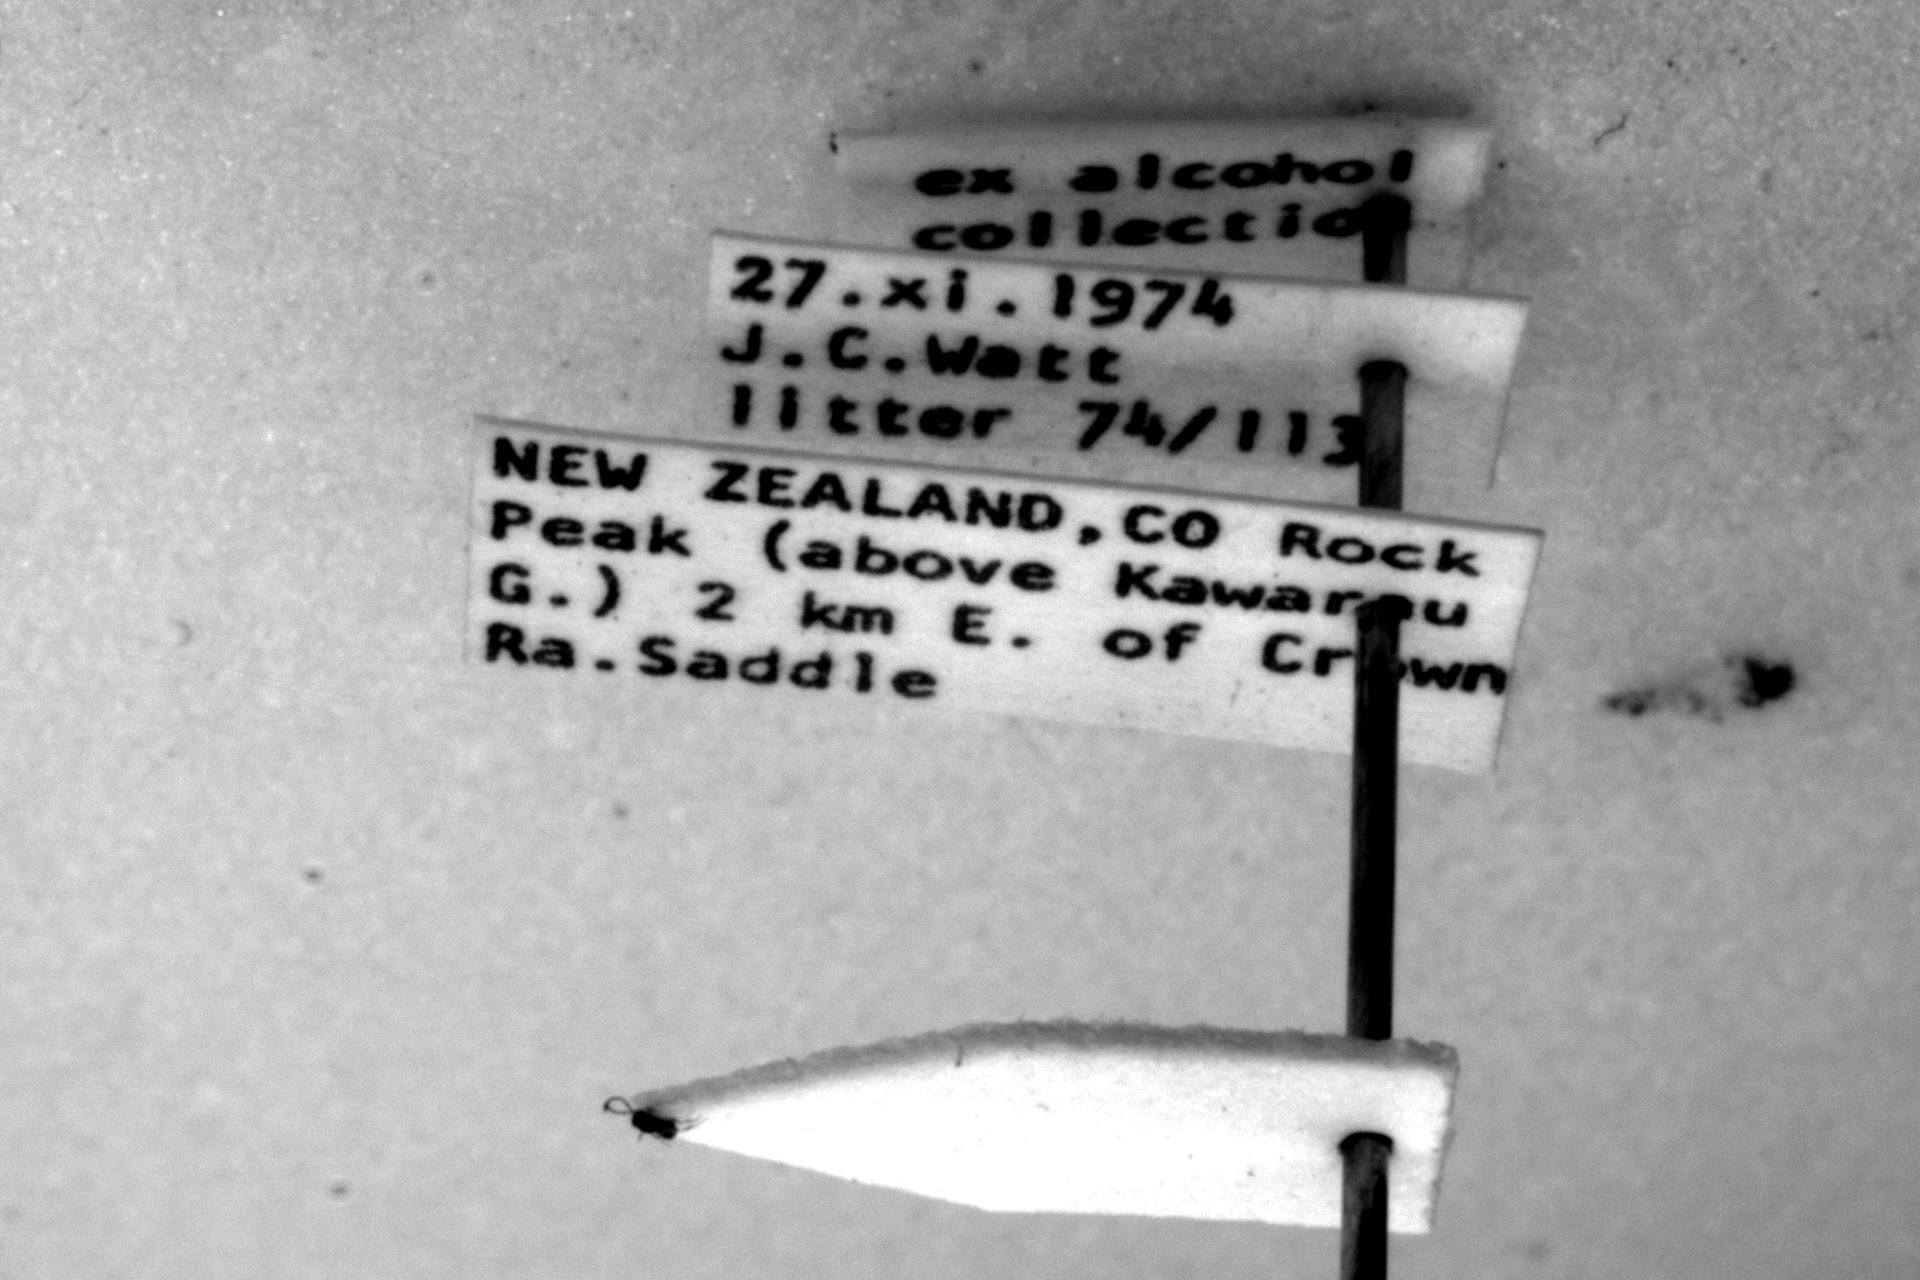typed_label: (466, 420, 1541, 773), (697, 233, 1526, 484), (836, 116, 1493, 289)
